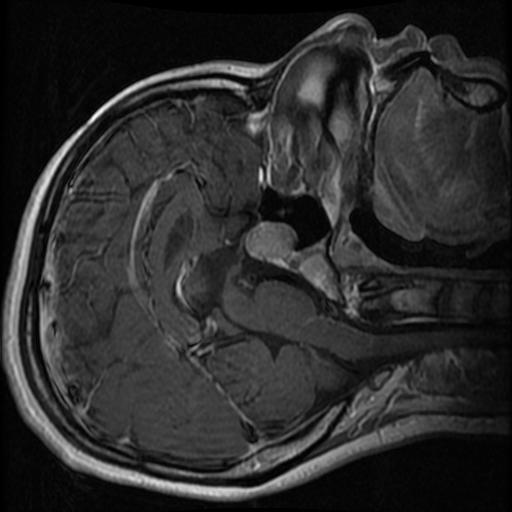pituitary tumour: (245, 222, 297, 262)
